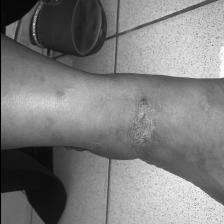liken simpleks kronis: (114, 89, 168, 157)
